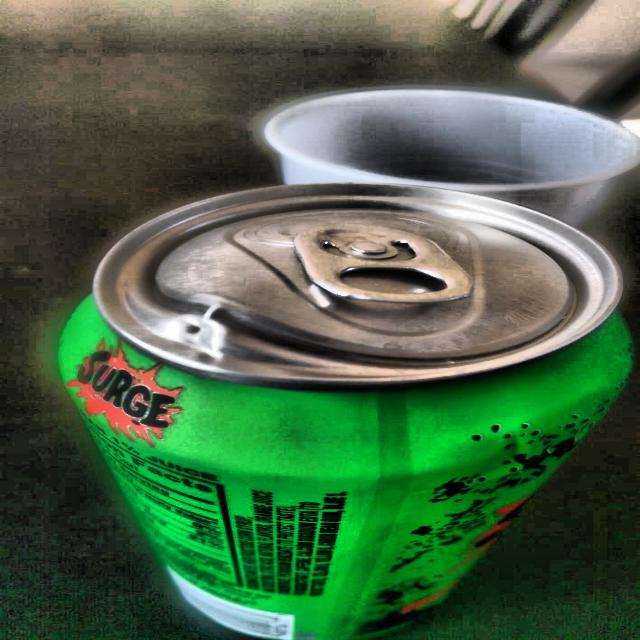Cans: (41, 160, 639, 640)
